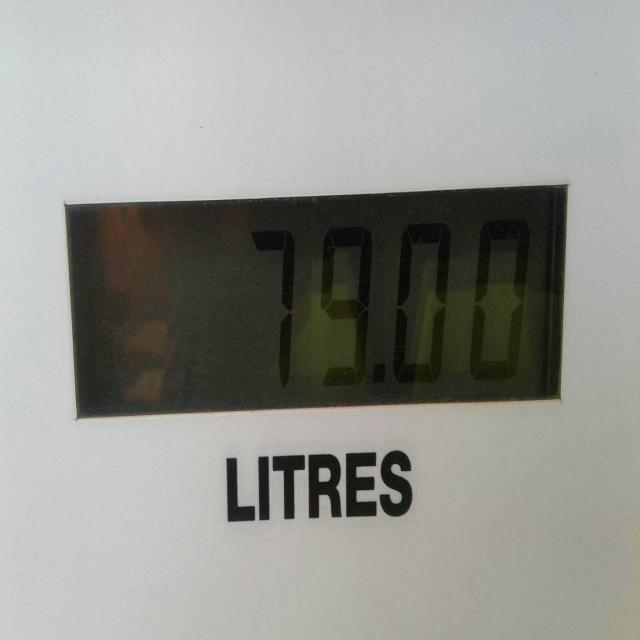.: (360, 347, 390, 408)
0: (387, 209, 458, 406), (466, 216, 538, 394)
7: (245, 220, 308, 398)
9: (308, 222, 382, 393)
